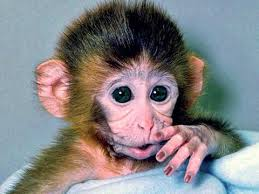monkey: (14, 13, 237, 183)
